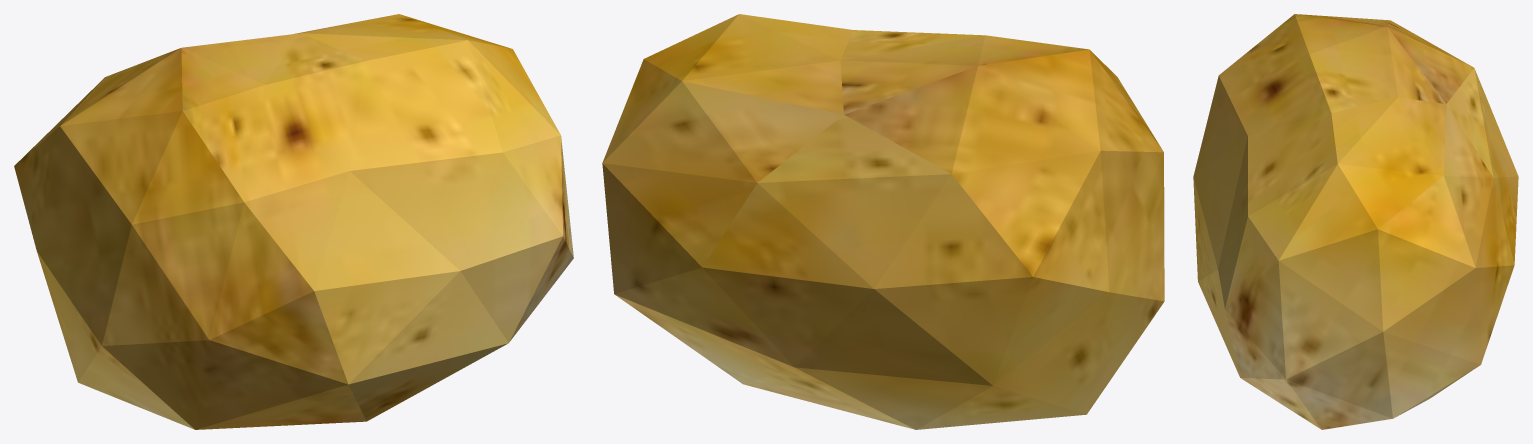
Rendered from Boteto.fbx.
The picture shows the model from 3 angles, left to right: view 1: azimuth 30°, elevation 25°; view 2: azimuth 150°, elevation 25°; view 3: azimuth 270°, elevation 25°; orthographic projection. The views are drawn at different scales.
Parts seen in each view (by area): view 1: Icosphere.010; view 2: Icosphere.010; view 3: Icosphere.010.
Boxes of the visible parts, x1=… form: Icosphere.010: x1=14, y1=14, x2=573, y2=429; Icosphere.010: x1=602, y1=14, x2=1164, y2=429; Icosphere.010: x1=1193, y1=14, x2=1518, y2=429.
Bounding box in the file's own units: 0.1633 × 0.1188 × 0.1109.
1 material, 1 textured.
